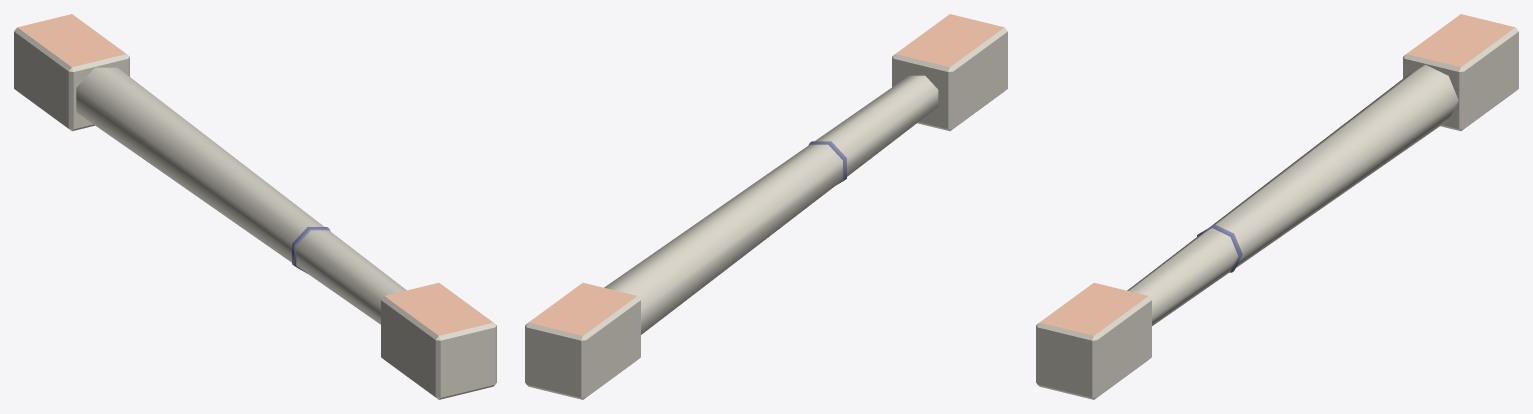
File: R4C_ROD_LONG_LOD1.fbx
The picture shows the model from 3 angles, left to right: view 1: azimuth 30°, elevation 25°; view 2: azimuth 150°, elevation 25°; view 3: azimuth 330°, elevation 25°; orthographic projection.
Visible parts, largest first — view 1: R4C_ROD_LONG_LOD1; view 2: R4C_ROD_LONG_LOD1; view 3: R4C_ROD_LONG_LOD1.
Part boxes in pixels (bbox=[...]): R4C_ROD_LONG_LOD1: bbox=[14, 14, 496, 399]; R4C_ROD_LONG_LOD1: bbox=[525, 14, 1007, 399]; R4C_ROD_LONG_LOD1: bbox=[1036, 14, 1518, 399].
Bounding box in the file's own units: 0.226 × 0.226 × 2.72.
